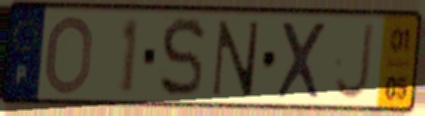1: (118, 15, 141, 98)
J: (332, 20, 376, 103)
N: (209, 18, 263, 100)
O: (42, 13, 96, 98)
S: (157, 14, 208, 101)
X: (274, 18, 329, 102)
